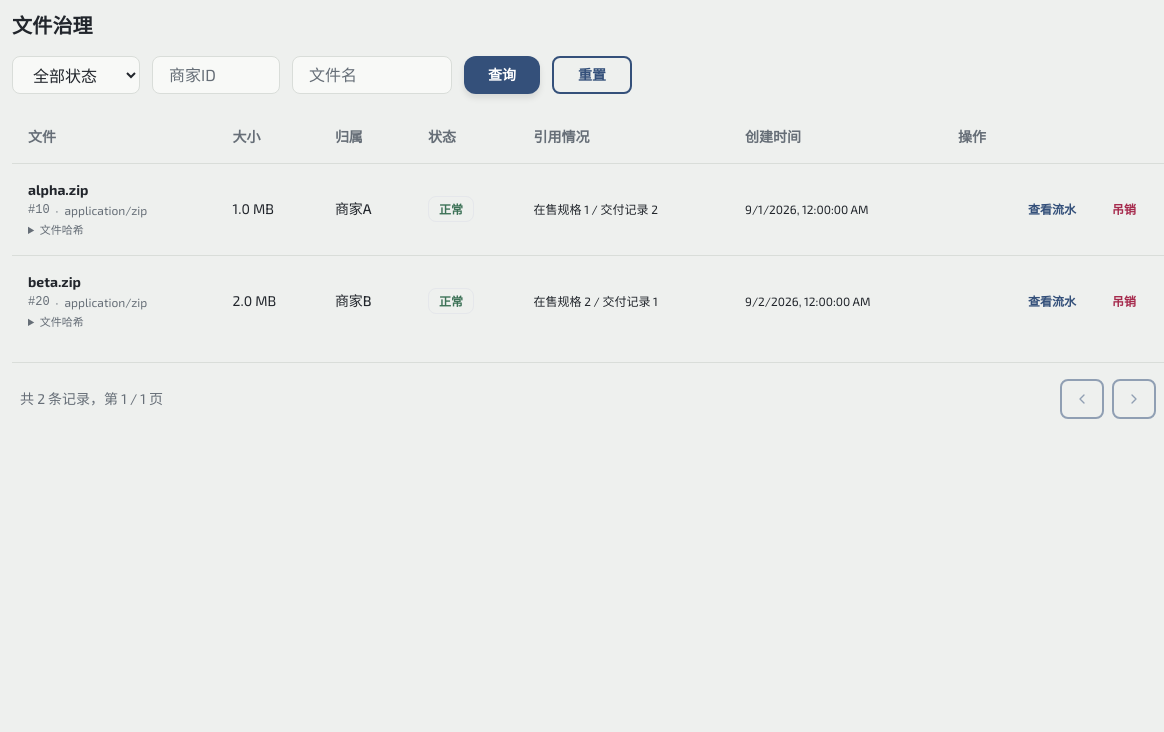
AdminFileGovernance race condition & consistency protection › drops in-flight file grants when expanded file is collapsed
Expected: the text "alpha.zip" is shown, [28,181,88,198]
Step 1. Click the button "查看流水" in the row of "alpha.zip" → (1052, 209), box [1016,189,1088,229]
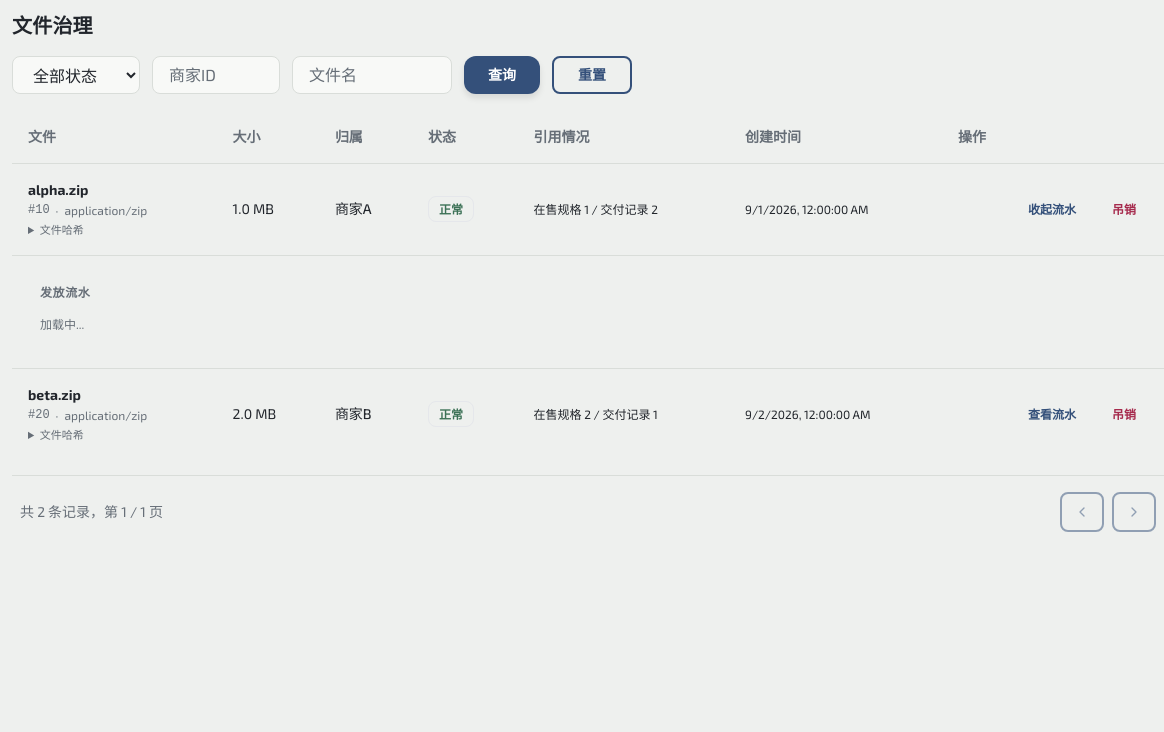
# Collapse file 10 before response arrives
Step 2. Click the button "收起流水" → (1052, 209), box [1016,189,1088,229]
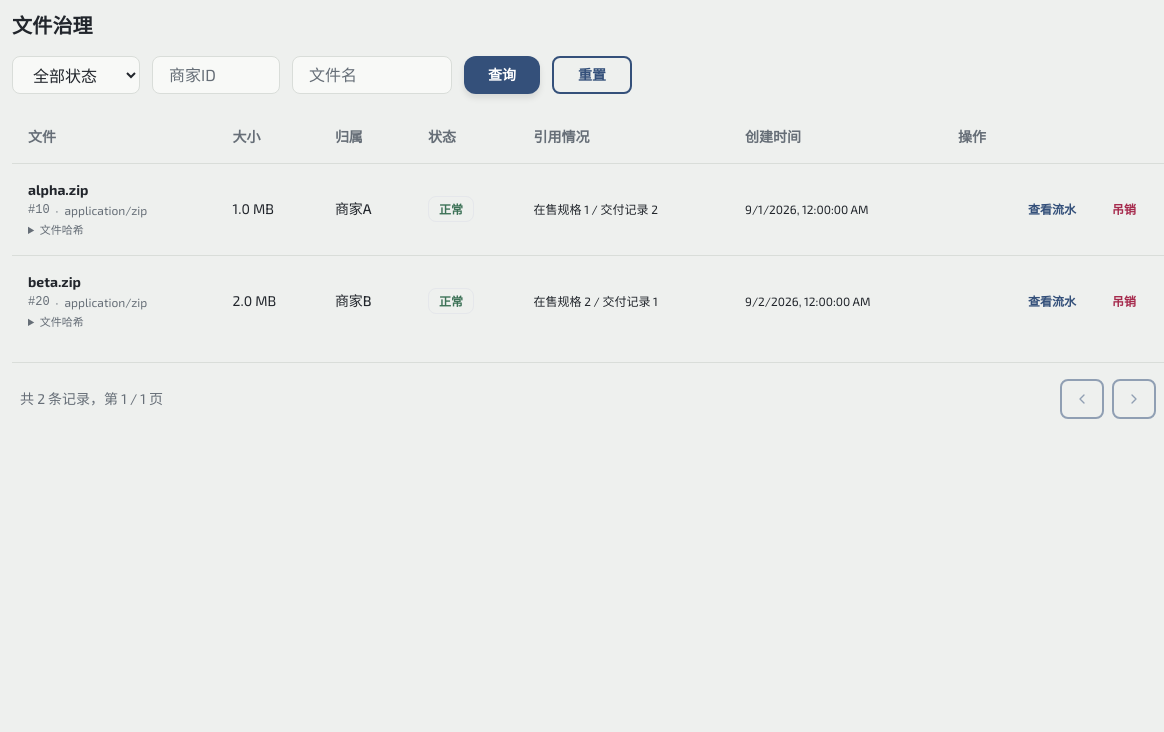
Result: the button "收起流水" is gone
